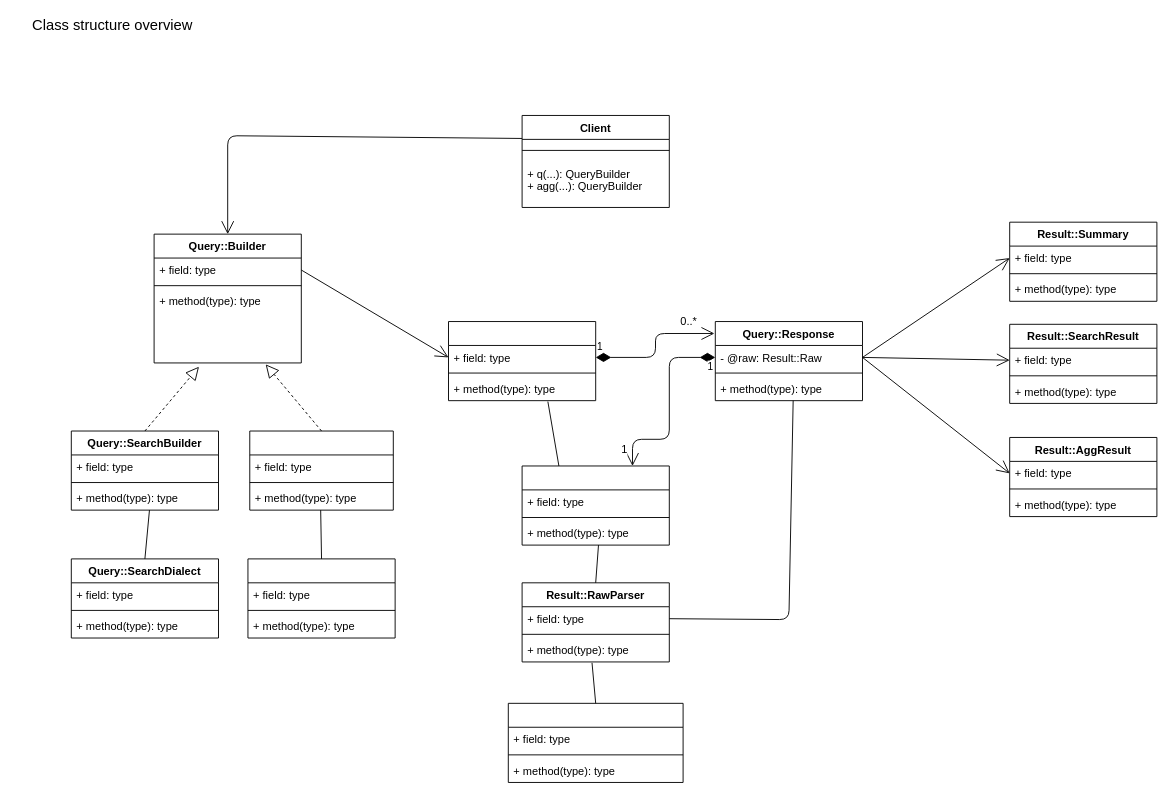
The diagram is 1173 pixels wide and 800 high, and some of its shapes have lost their labels. Each missing label, with the box of its shape:
Query::AggBuilder: (249, 430, 393, 510)
Query::AggDialect: (247, 558, 395, 638)
Query::RawDialect: (507, 702, 683, 782)
Query::Request: (448, 321, 596, 401)
Result::Raw: (521, 465, 669, 545)
